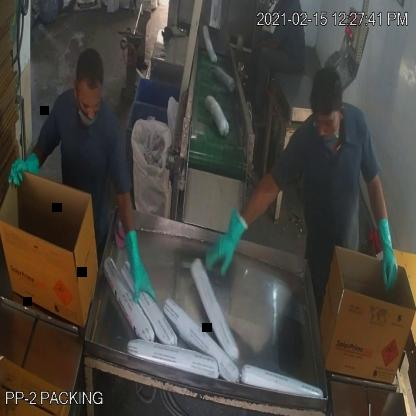glove: (201, 169, 284, 282), (113, 180, 159, 316), (363, 171, 406, 305), (8, 144, 42, 197)
